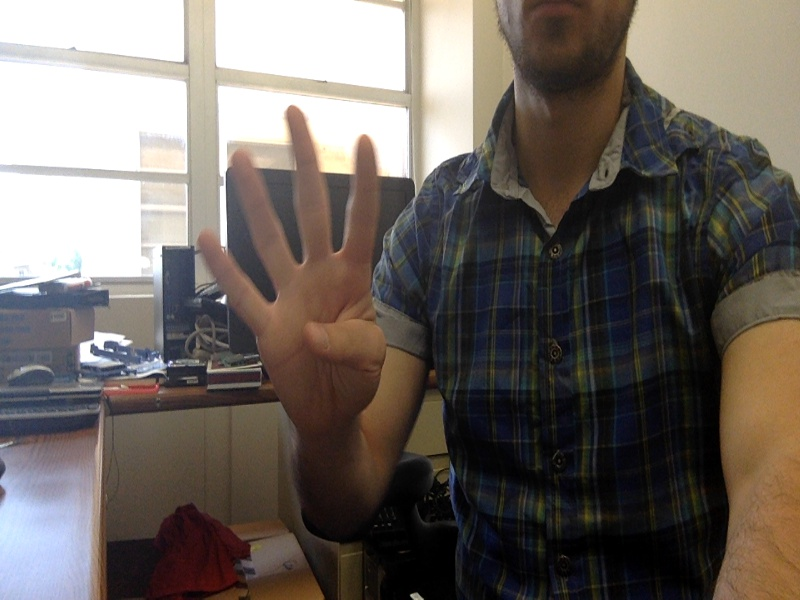4-hand: (198, 105, 389, 447)
